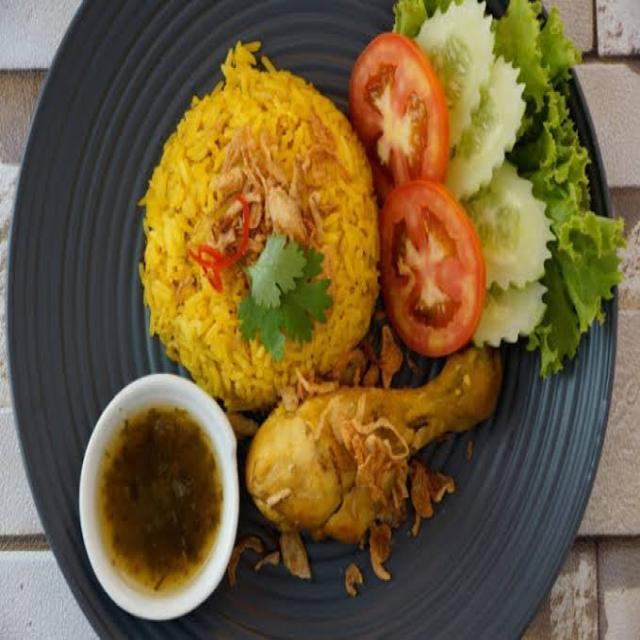carb: (152, 75, 374, 382)
chicken biryani: (127, 36, 427, 566)
meat: (254, 369, 486, 562)
vegetable: (255, 242, 325, 337)
